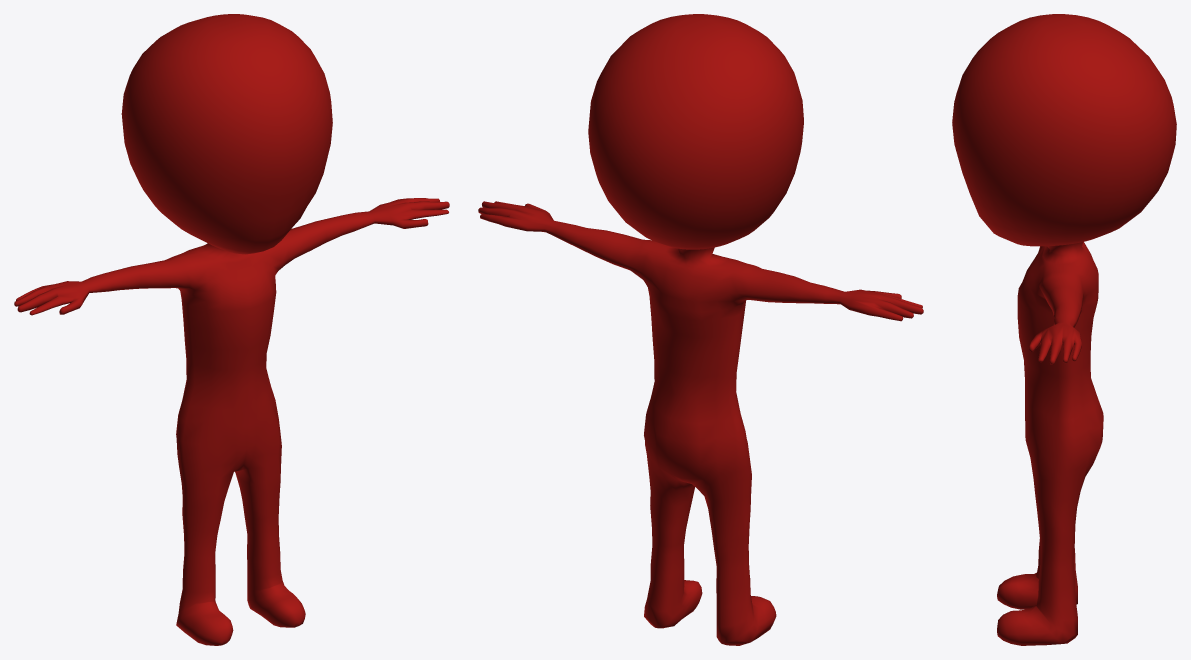
The model's file is stickman.obj.
3 views of the same model, side by side, from view 1: azimuth 30°, elevation 25°; view 2: azimuth 150°, elevation 25°; view 3: azimuth 270°, elevation 25° (orthographic). The views are drawn at different scales.
Parts seen in each view (by area): view 1: mesh; view 2: mesh; view 3: mesh.
Part boxes in pixels (x1,y1,x2,y2): mesh: (14,14,449,645); mesh: (478,14,923,645); mesh: (952,14,1176,645).
Size of the model in its own units: 1.49 by 1.97 by 0.6707.
